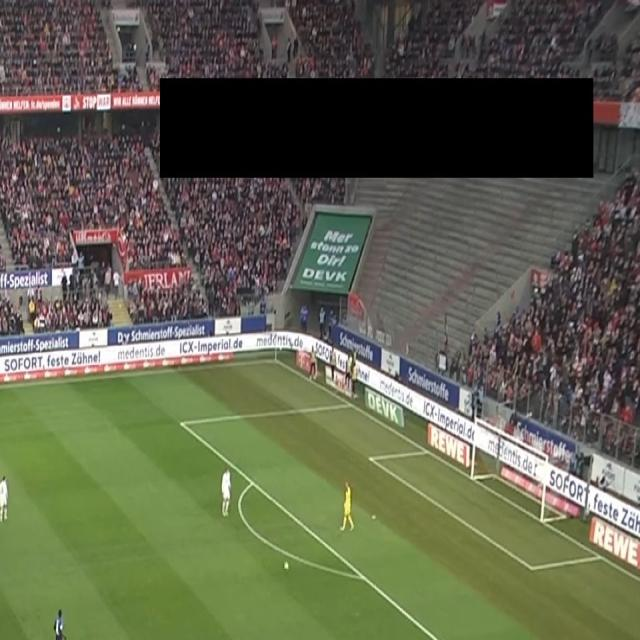ball: (283, 560, 289, 572)
